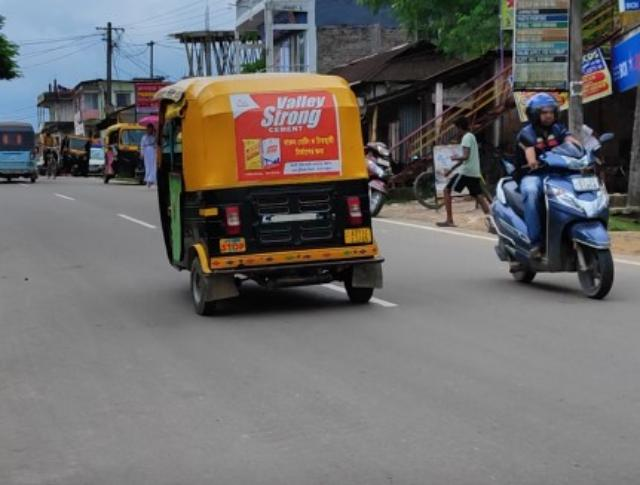licensePlate: (570, 177, 605, 194)
motorcycle: (491, 86, 619, 301)
withHelmet: (523, 93, 566, 135)
